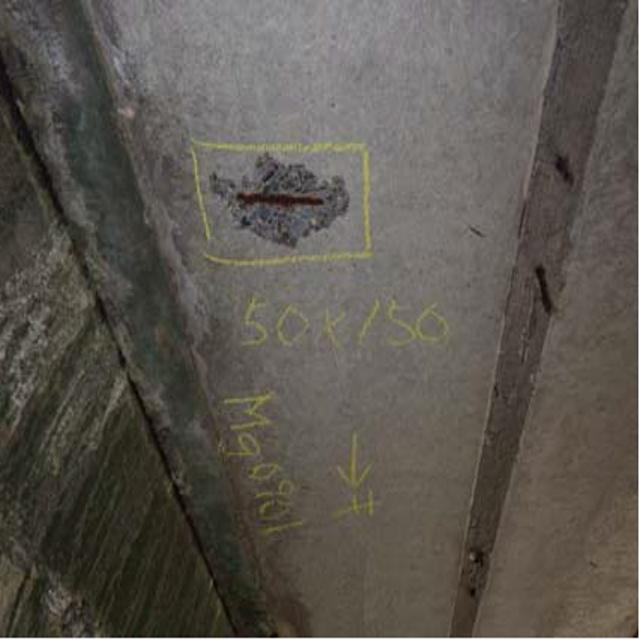spalling: (206, 147, 363, 259)
